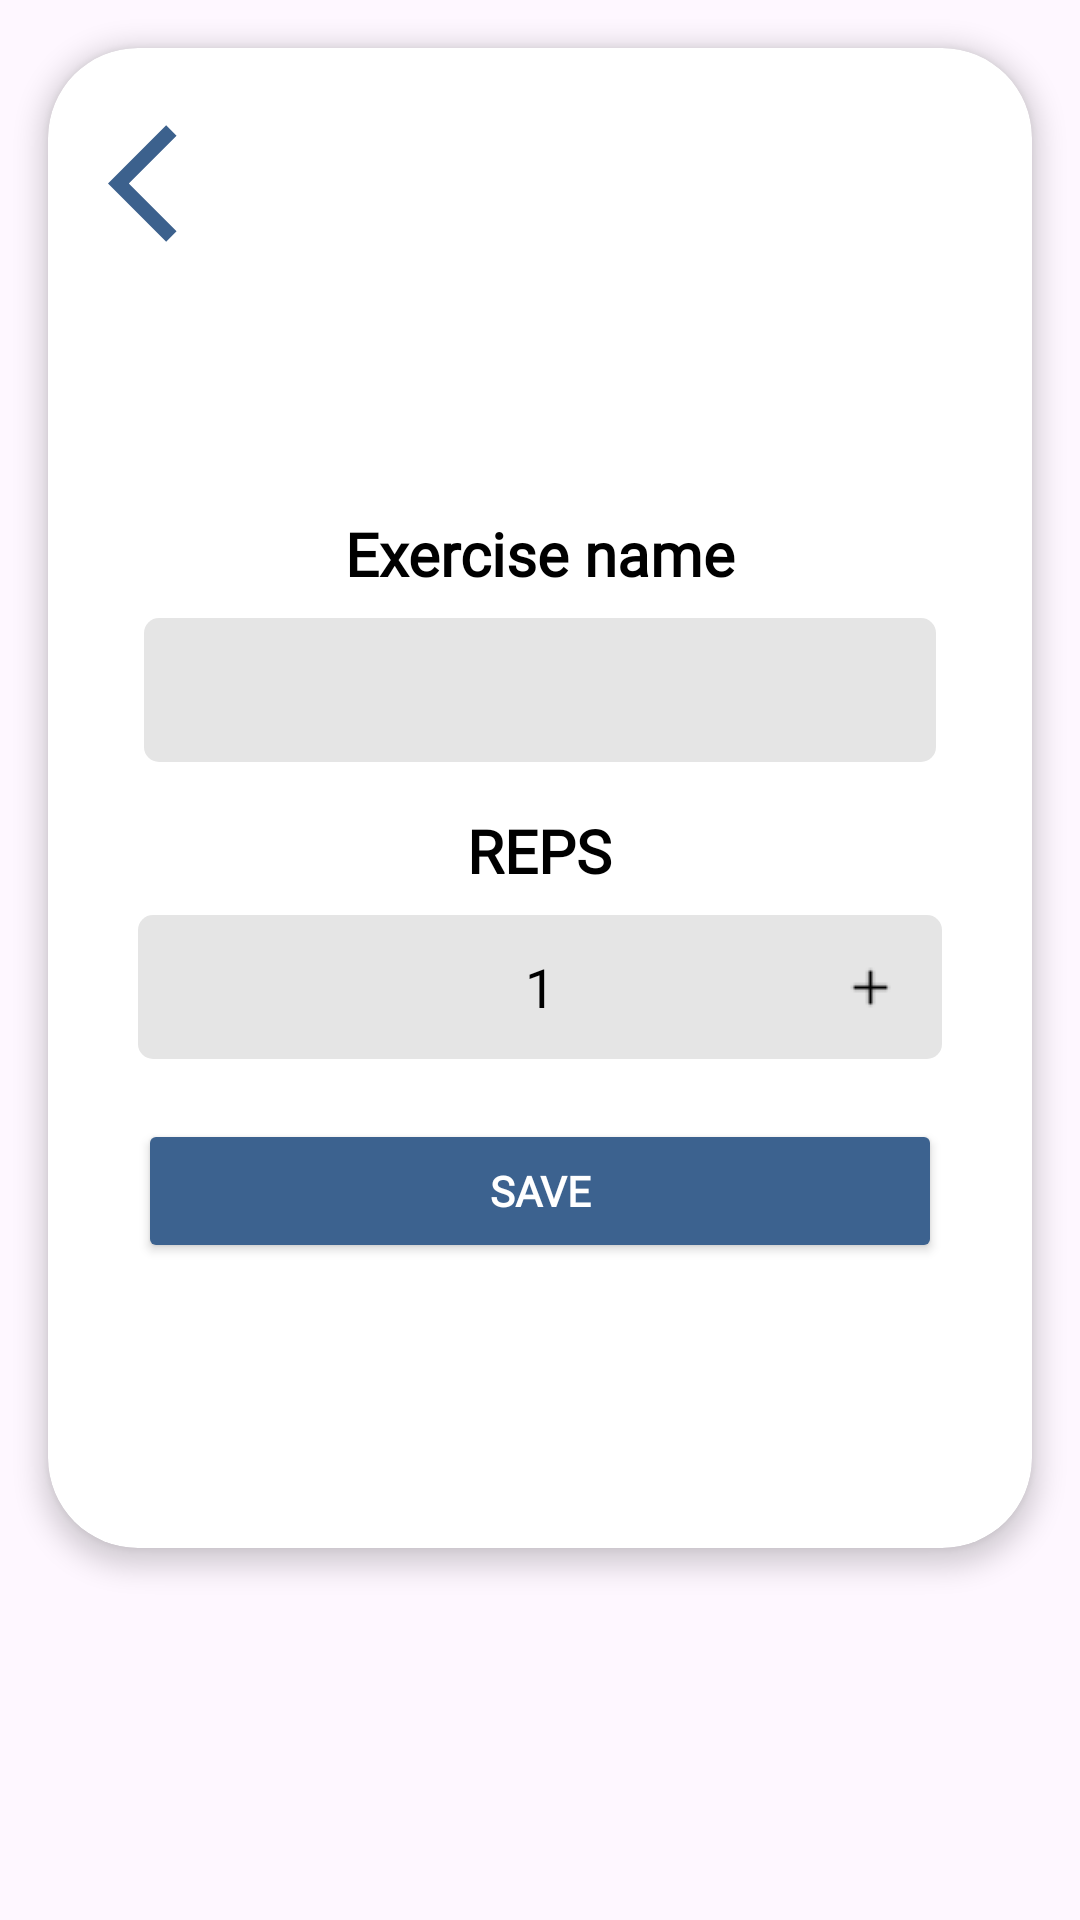

Locate icon controls on the screen. Image size 1080 x 1920, boxes as (x1, y1, x2, y2).
arrow back: (108, 125, 177, 242)
Increase: (798, 915, 942, 1059)
